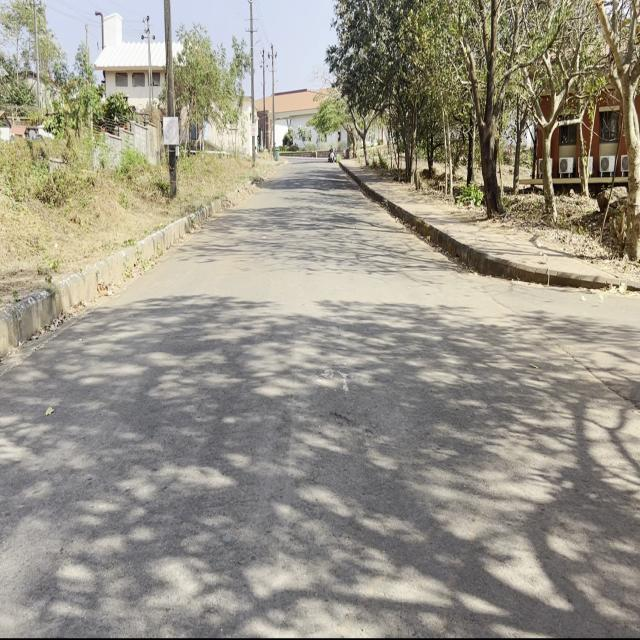Road: (2, 163, 639, 631)
